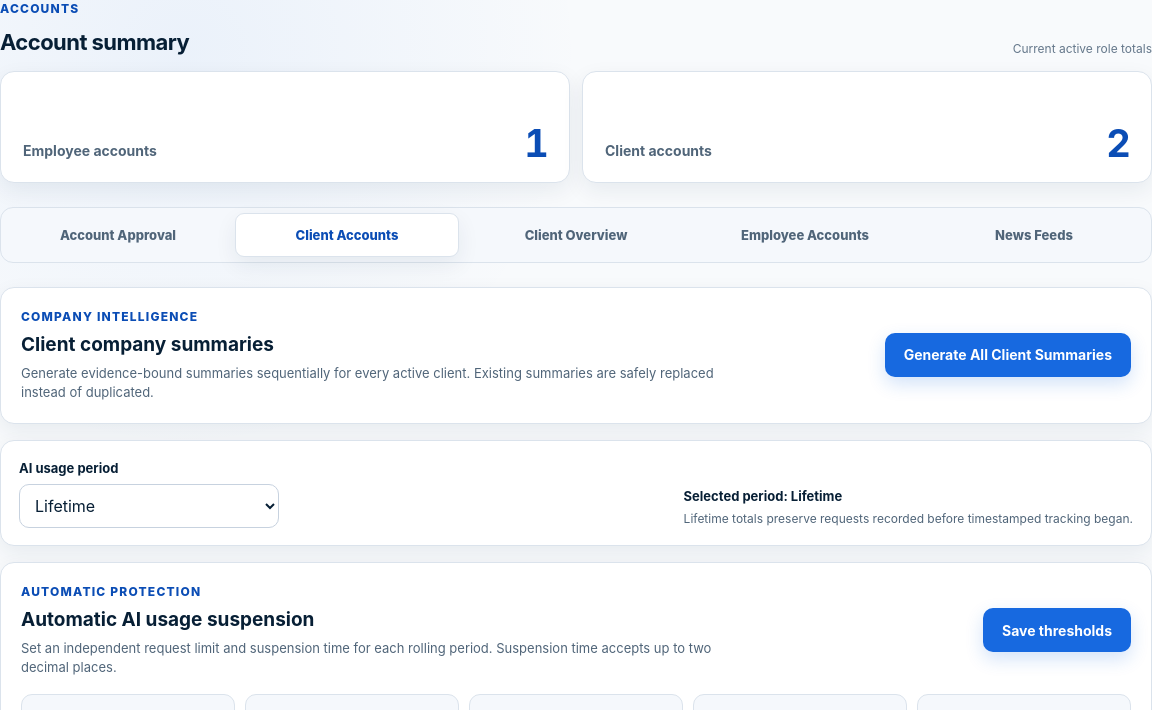
Test: account request and employee summary UI › links client names to details and reports partial batch-summary completion
Click the button "Generate All Client Summaries".
click(1008, 355)  # box [885,333,1131,377]
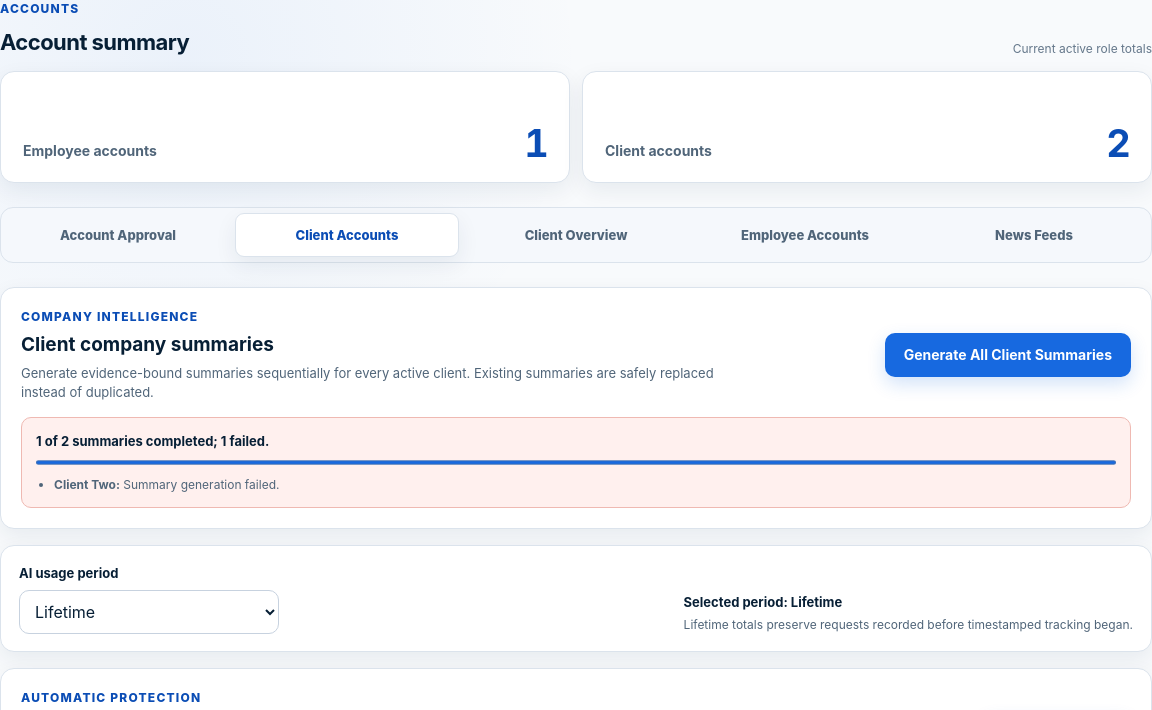
Result: the text "1 of 2 summaries completed; 1 failed." is shown at [36,433,269,449]
Result: the text "Client Two:" is shown at [54,477,120,492]
